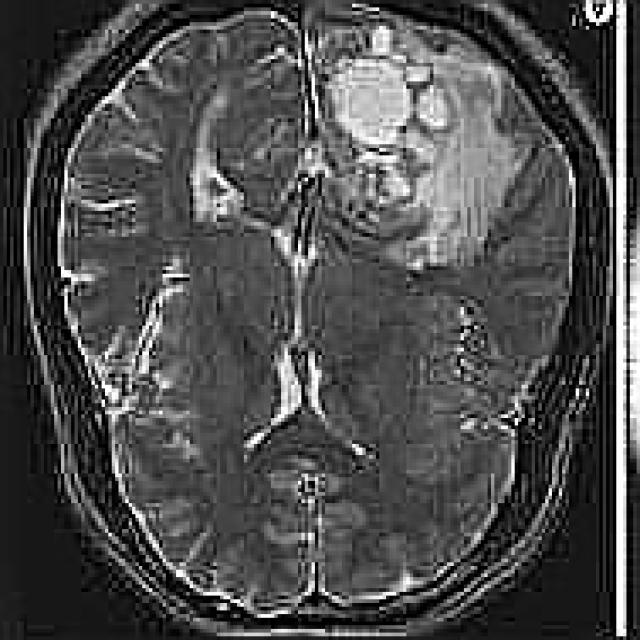Tumor-Cell: (345, 48, 517, 256)
